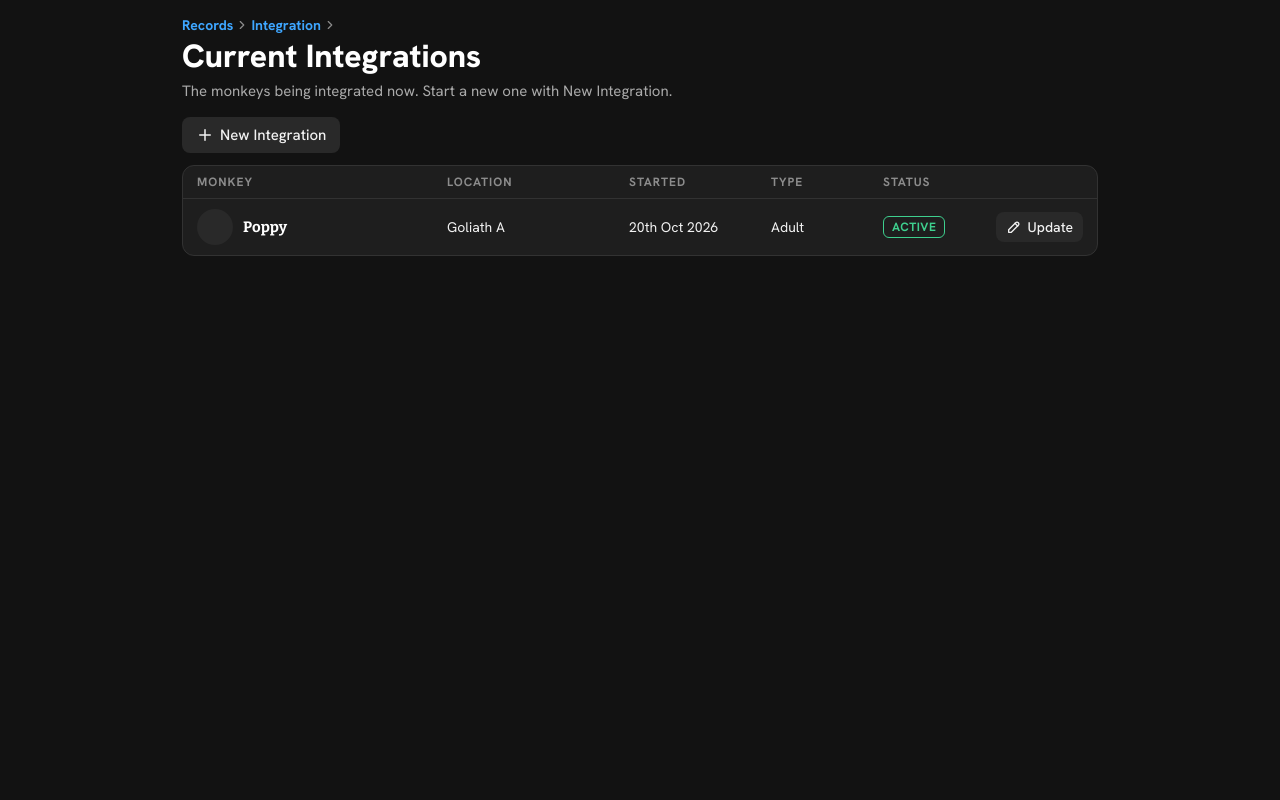
Test: Current Integrations › Update: the date can't be before the integration started
Click the button with aria-label "Update, Poppy": (1039, 227) [996, 212, 1083, 242]
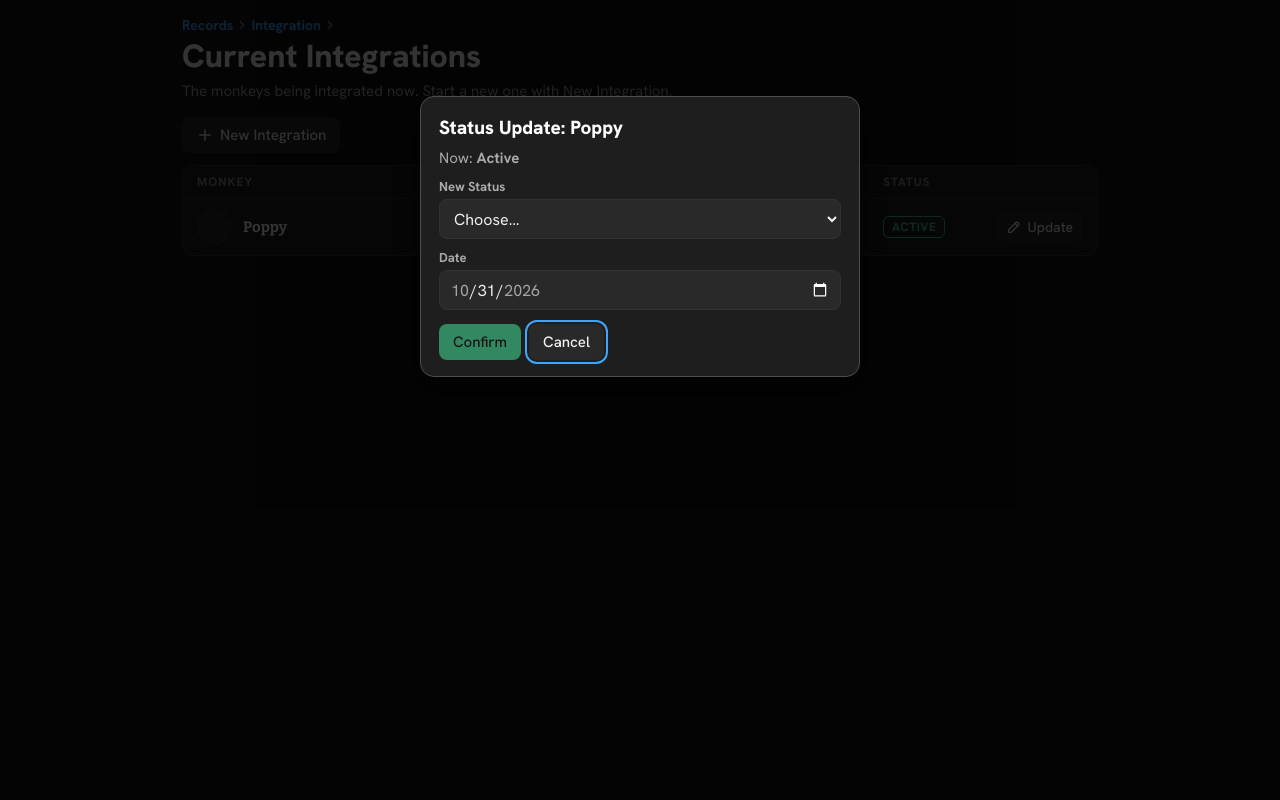
Select "Completed" in the dropdown labelled "New Status": (640, 219) [439, 199, 841, 239]
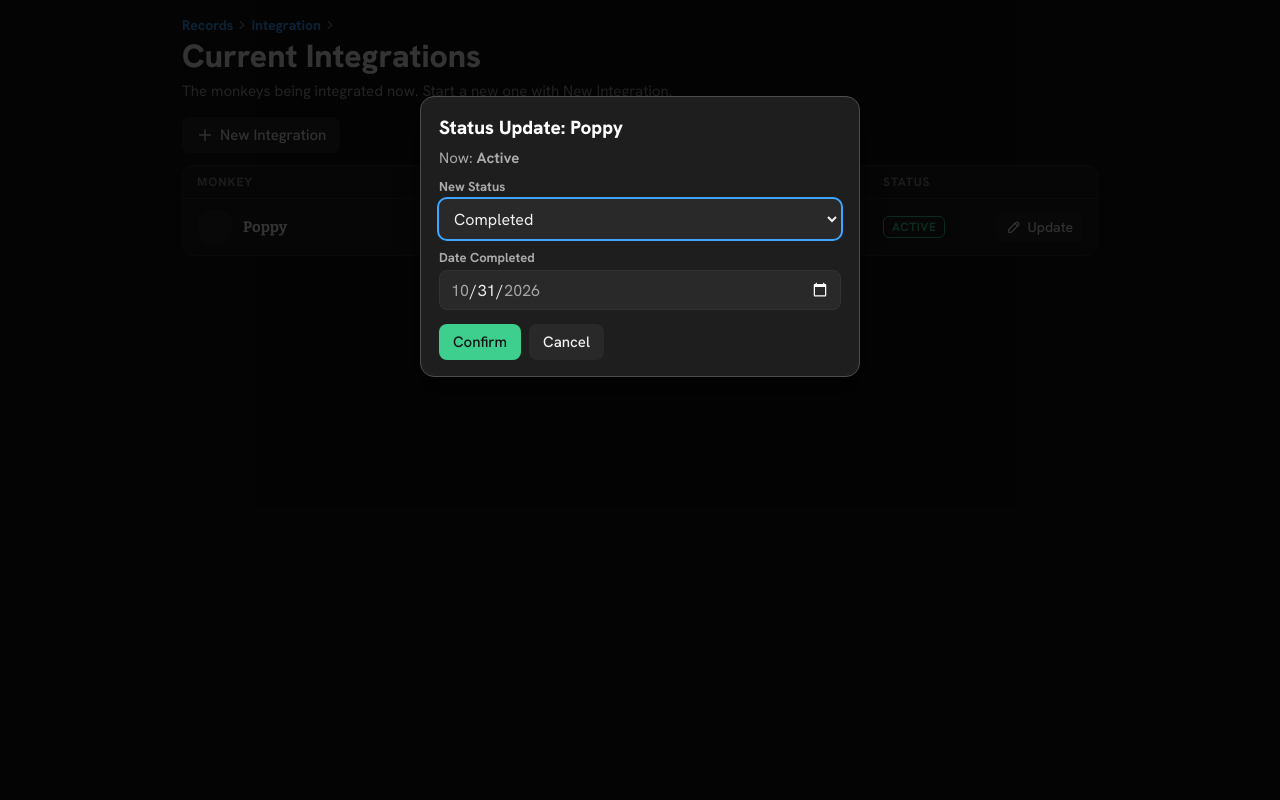
In the date field labelled "Date Completed": (640, 290) [439, 270, 841, 310], type "2026-10-19"
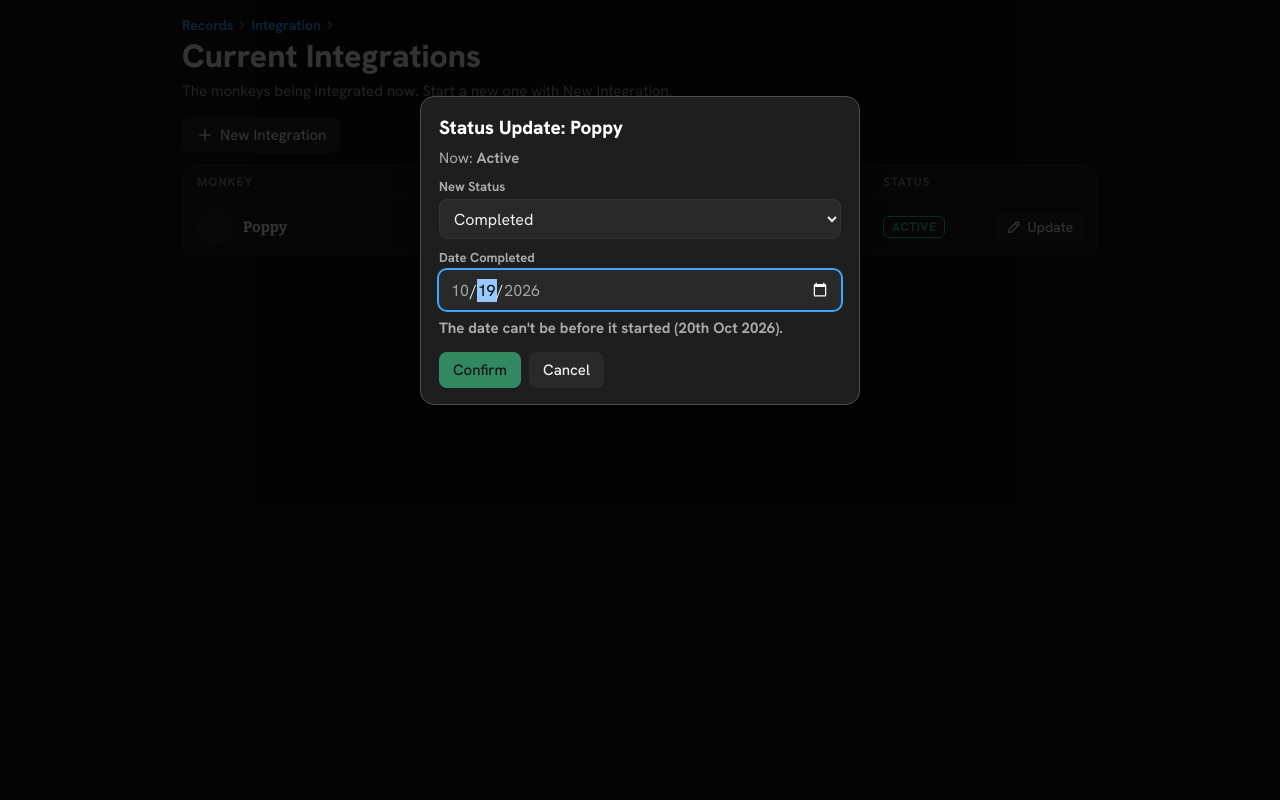
Expected: the button "Confirm" is disabled, [439, 352, 521, 388]
Expected: the text "The date can't be before it started (20th Oct 2026)." is shown, [439, 318, 841, 338]
